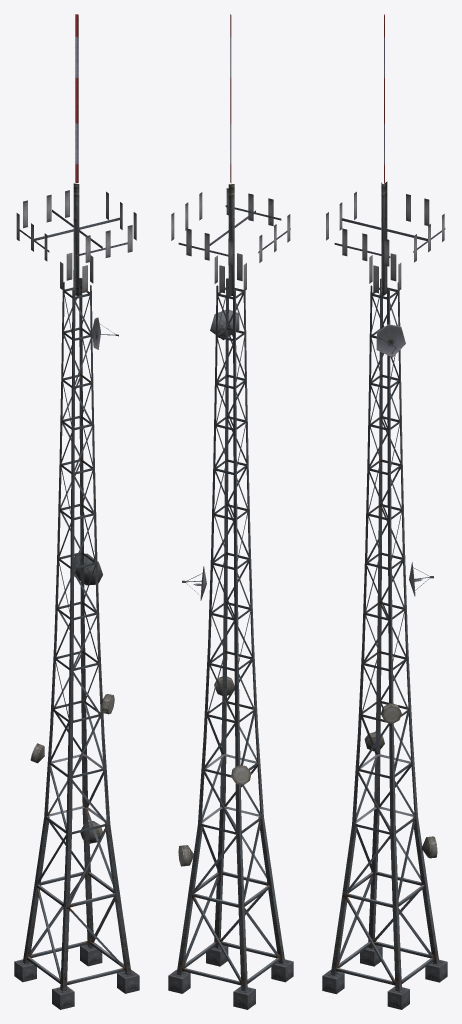
File: Prop_Tower_lod1.glb
3 renders of one model, left to right at view 1: azimuth 30°, elevation 25°; view 2: azimuth 150°, elevation 25°; view 3: azimuth 330°, elevation 25°, orthographic.
Visible parts, largest first — view 1: xiutz_tt_lod1_0; view 2: xiutz_tt_lod1_0; view 3: xiutz_tt_lod1_0.
Boxes of the visible parts, x1,y1,x2,y2 form: xiutz_tt_lod1_0: (14,14,139,1009); xiutz_tt_lod1_0: (168,14,293,1009); xiutz_tt_lod1_0: (322,14,447,1009).
Bounding box in the file's own units: 3.25 × 33.86 × 3.26.
2 materials, 2 textured.
